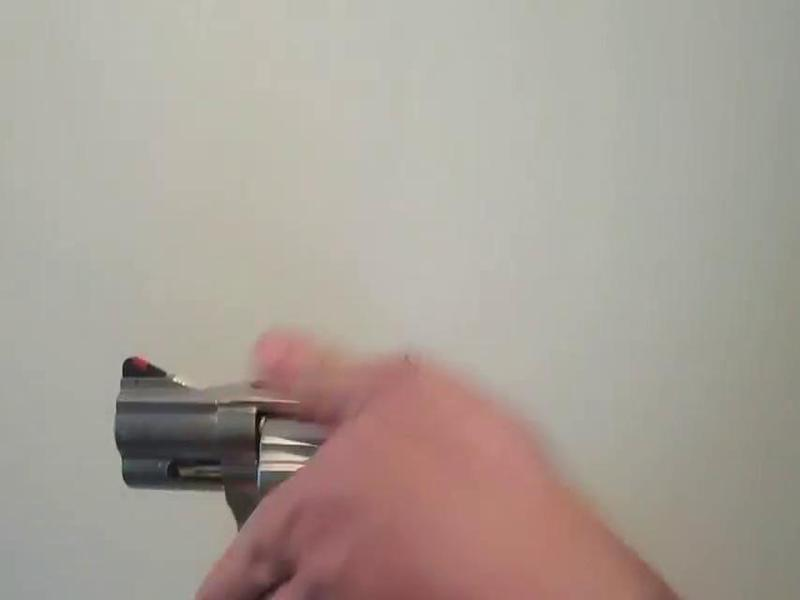Revolver: (98, 307, 495, 592)
